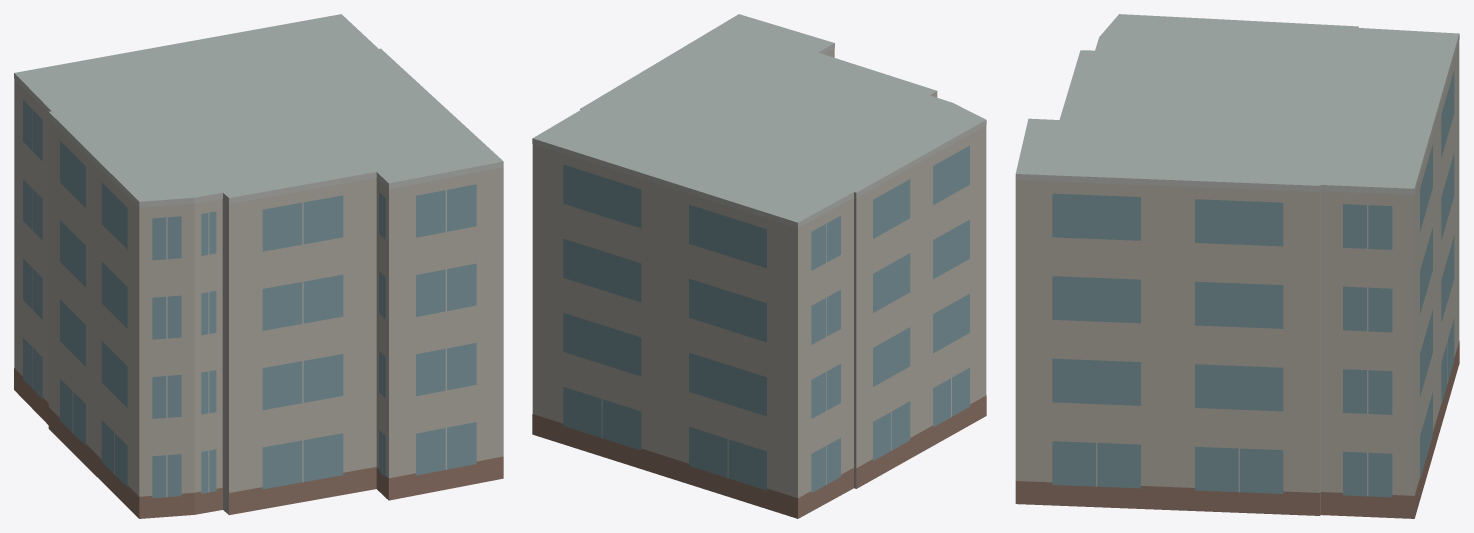
The model's file is survey-upis-32680886.glb.
3 renders of one model, left to right at view 1: azimuth 30°, elevation 25°; view 2: azimuth 150°, elevation 25°; view 3: azimuth 270°, elevation 25°, orthographic. The views are drawn at different scales.
Visible parts, largest first — view 1: survey-upis-32680886.tmp; view 2: survey-upis-32680886.tmp; view 3: survey-upis-32680886.tmp.
Part boxes in pixels (bbox=[...]): survey-upis-32680886.tmp: bbox=[14, 14, 503, 518]; survey-upis-32680886.tmp: bbox=[532, 14, 986, 518]; survey-upis-32680886.tmp: bbox=[1015, 14, 1459, 518].
Size of the model in its own units: 14.89 by 13.1 by 15.97.
